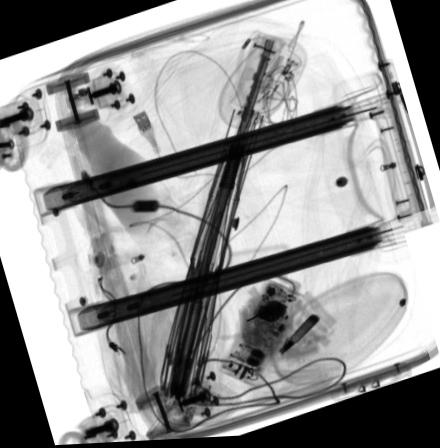Bullet: (279, 316, 321, 356)
